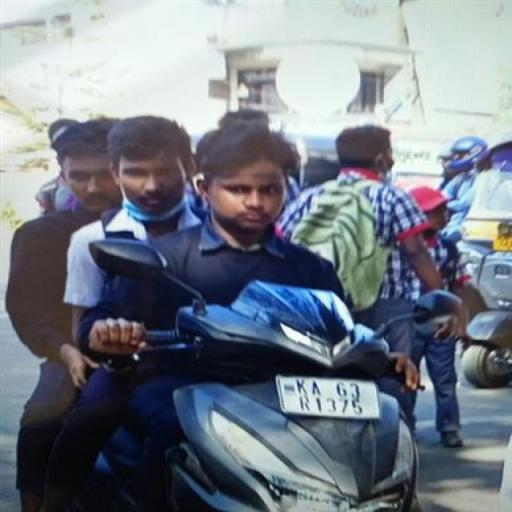tripple riding: (2, 110, 453, 376)
